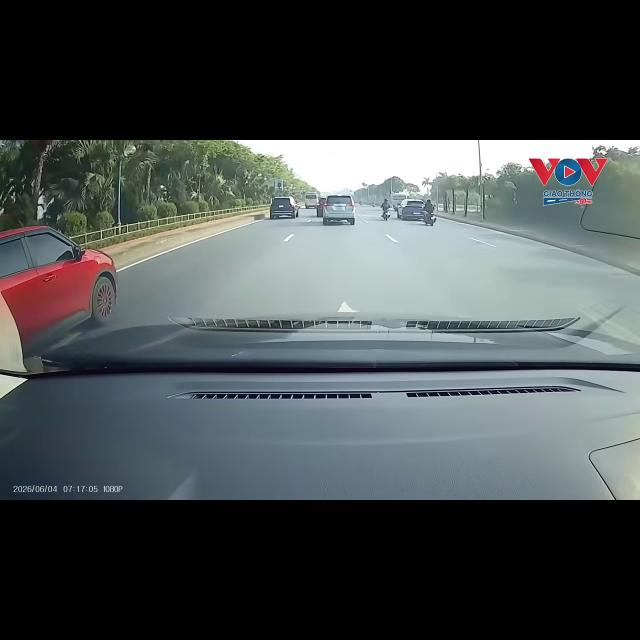car: (0, 226, 116, 353), (323, 195, 355, 224), (270, 196, 298, 219), (397, 199, 424, 219), (316, 197, 326, 217), (305, 193, 318, 208)
motorcycle: (424, 212, 435, 225), (382, 209, 390, 220)
